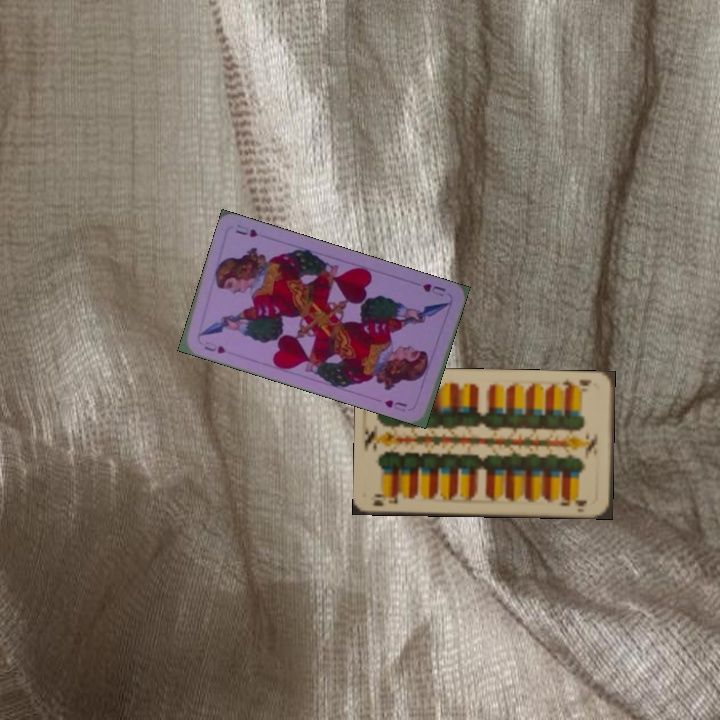E10: (558, 374, 593, 393), (369, 491, 401, 509)
HU: (419, 279, 448, 299), (200, 337, 228, 356)
